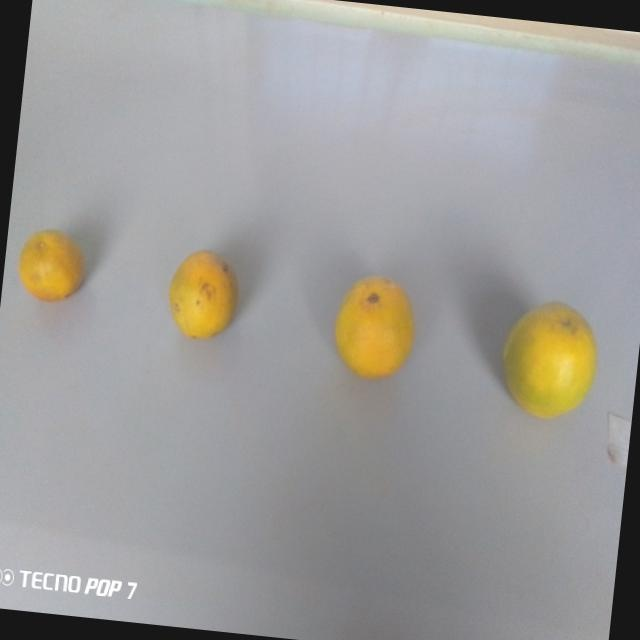agrume: (490, 286, 606, 433), (327, 269, 424, 384), (154, 232, 246, 347), (14, 219, 82, 301)
